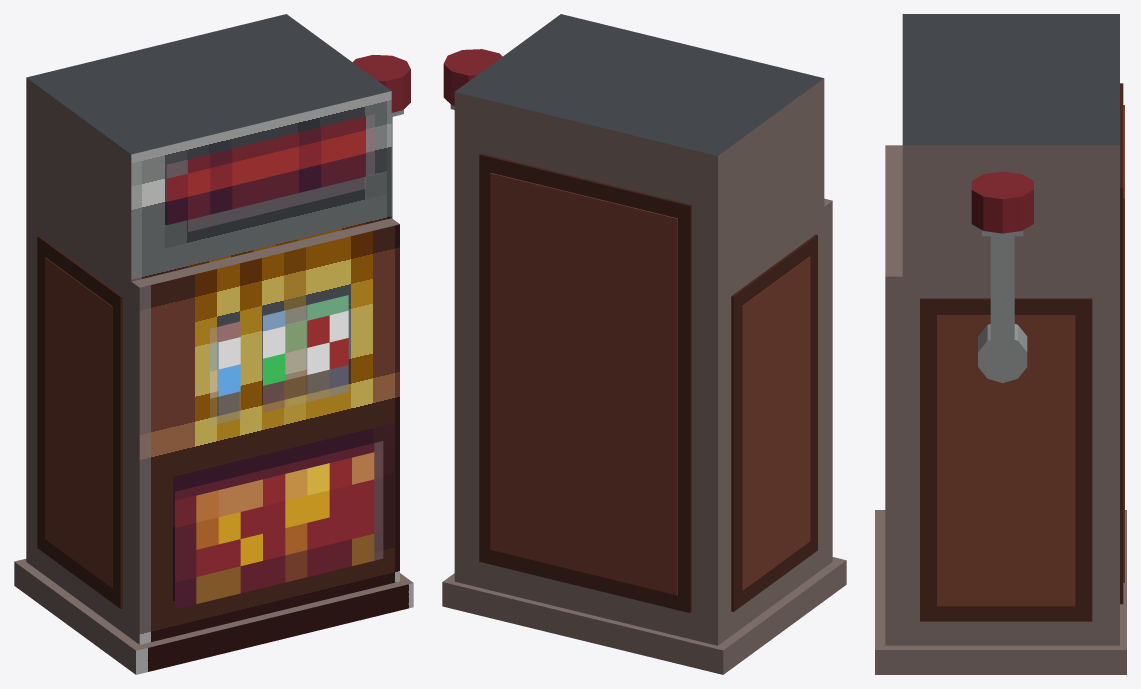
Rendered from slot_machine.glb.
The picture shows the model from 3 angles, left to right: view 1: azimuth 30°, elevation 25°; view 2: azimuth 150°, elevation 25°; view 3: azimuth 270°, elevation 25°; orthographic projection. The views are drawn at different scales.
Visible parts, largest first — view 1: Slot_Cabinet, Screen_Lower_Display, Screen_Marquee, Screen_Reels, Lever_Knob; view 2: Slot_Cabinet, Lever_Knob; view 3: Slot_Cabinet, Lever_Knob, Lever.
Part boxes in pixels (bbox=[...]): Slot_Cabinet: bbox=[14, 14, 413, 674]; Screen_Lower_Display: bbox=[175, 441, 383, 609]; Screen_Marquee: bbox=[166, 114, 374, 231]; Screen_Reels: bbox=[210, 295, 348, 425]; Lever_Knob: bbox=[352, 55, 410, 112]; Slot_Cabinet: bbox=[442, 14, 846, 674]; Lever_Knob: bbox=[443, 49, 502, 105]; Slot_Cabinet: bbox=[875, 14, 1126, 674]; Lever_Knob: bbox=[971, 171, 1033, 233]; Lever: bbox=[982, 230, 1023, 363].
Size of the model in its own units: 1.15 by 1.68 by 0.73.
2 materials, 2 textured.
